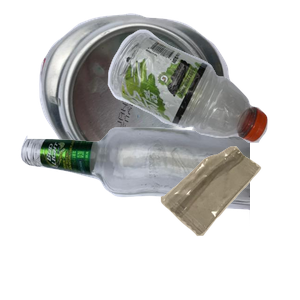glass: (18, 124, 258, 300)
metal: (37, 11, 261, 180)
plastic: (105, 27, 300, 162)
trash: (158, 144, 300, 300)
